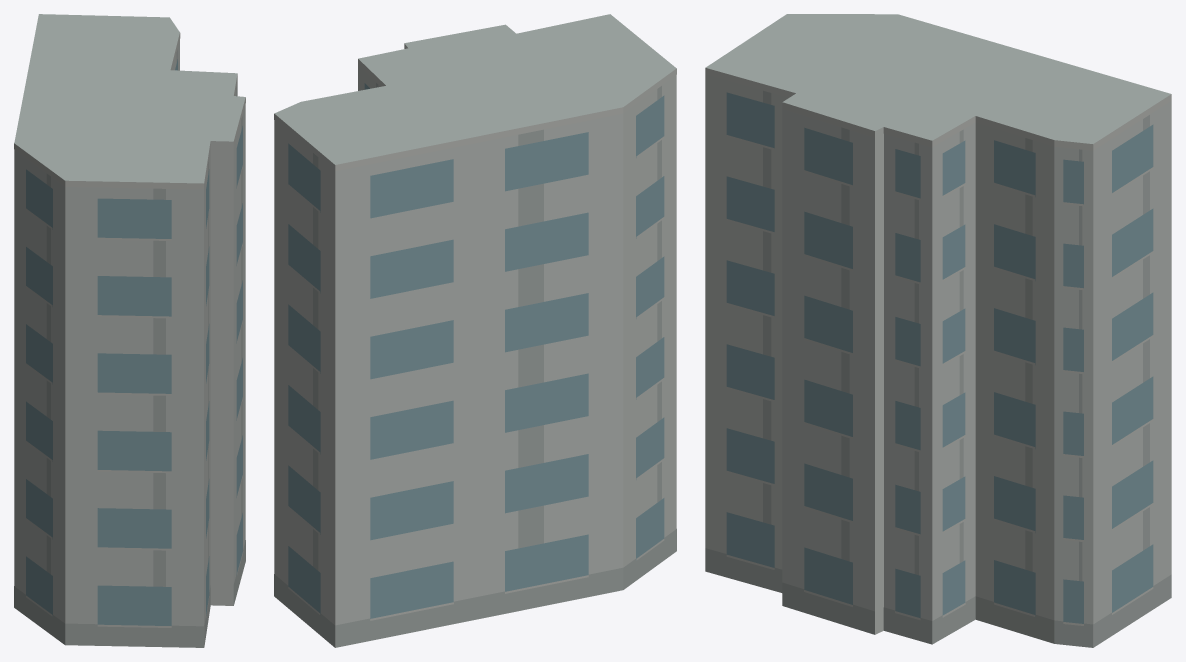
Rendered from residential-c8e3e833-8f52-46d2-b098-107fbd67e1a5.glb.
The picture shows the model from 3 angles, left to right: view 1: azimuth 30°, elevation 25°; view 2: azimuth 150°, elevation 25°; view 3: azimuth 270°, elevation 25°; orthographic projection. The views are drawn at different scales.
Visible parts, largest first — view 1: residential-c8e3e833-8f52-46d2-b098-107fbd67e1a5.tmp; view 2: residential-c8e3e833-8f52-46d2-b098-107fbd67e1a5.tmp; view 3: residential-c8e3e833-8f52-46d2-b098-107fbd67e1a5.tmp.
Boxes of the visible parts, bbox=[...] form: residential-c8e3e833-8f52-46d2-b098-107fbd67e1a5.tmp: bbox=[14, 14, 245, 647]; residential-c8e3e833-8f52-46d2-b098-107fbd67e1a5.tmp: bbox=[274, 14, 676, 647]; residential-c8e3e833-8f52-46d2-b098-107fbd67e1a5.tmp: bbox=[705, 14, 1171, 647].
Size of the model in its own units: 10.15 by 18.3 by 15.36.
